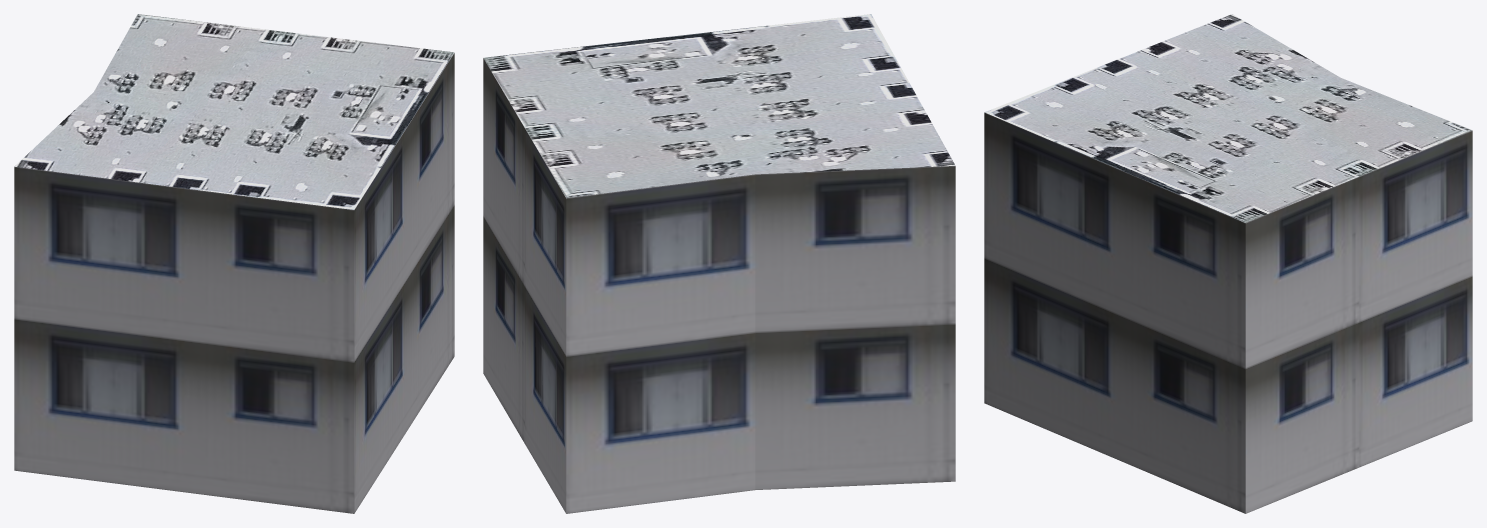
File: ResTex__2892.fbx
3 views of the same model, side by side, from view 1: azimuth 30°, elevation 25°; view 2: azimuth 150°, elevation 25°; view 3: azimuth 270°, elevation 25° (orthographic). The views are drawn at different scales.
Visible parts, largest first — view 1: CityEngineMaterial_9_m, CityEngineMaterial_4_m; view 2: CityEngineMaterial_9_m, CityEngineMaterial_4_m; view 3: CityEngineMaterial_9_m, CityEngineMaterial_4_m.
Boxes of the visible parts, box(x1,y1,x2,y2) form: CityEngineMaterial_9_m: box(14, 53, 454, 513); CityEngineMaterial_4_m: box(14, 14, 454, 209); CityEngineMaterial_9_m: box(483, 58, 955, 513); CityEngineMaterial_4_m: box(483, 14, 955, 198); CityEngineMaterial_9_m: box(984, 112, 1472, 513); CityEngineMaterial_4_m: box(985, 14, 1471, 222).
Bounding box in the file's own units: 9.25 × 6 × 9.13.
Materials: 2 (2 with a texture image).
